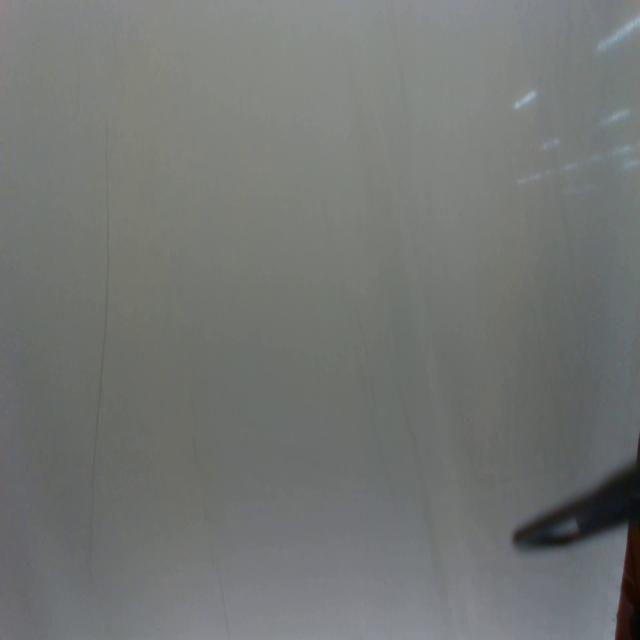crease: (80, 116, 114, 600)
